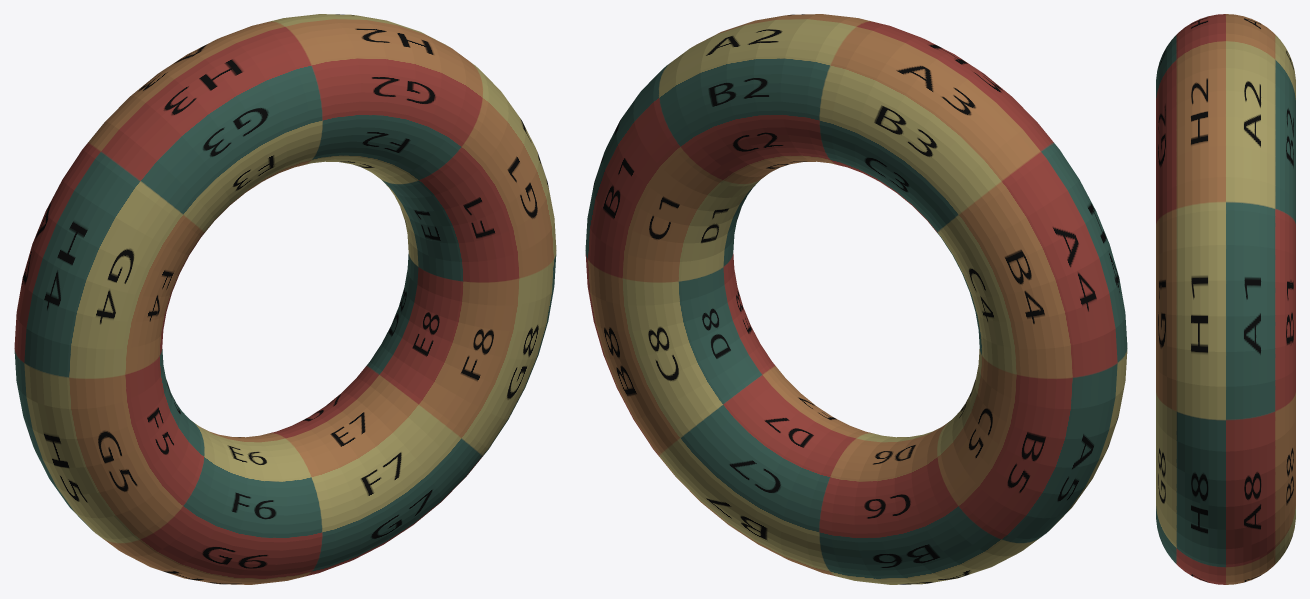
File: texture_torus_R25_r25.glb
3 views of the same model, side by side, from view 1: azimuth 30°, elevation 25°; view 2: azimuth 150°, elevation 25°; view 3: azimuth 270°, elevation 25° (orthographic). The views are drawn at different scales.
Parts seen in each view (by area): view 1: world; view 2: world; view 3: world.
Part boxes in pixels (bbox=[...]): world: bbox=[14, 14, 556, 584]; world: bbox=[585, 14, 1127, 584]; world: bbox=[1156, 14, 1295, 584].
Bounding box in the file's own units: 35.33 × 35.26 × 8.65.
Materials: 1 (1 with a texture image).
